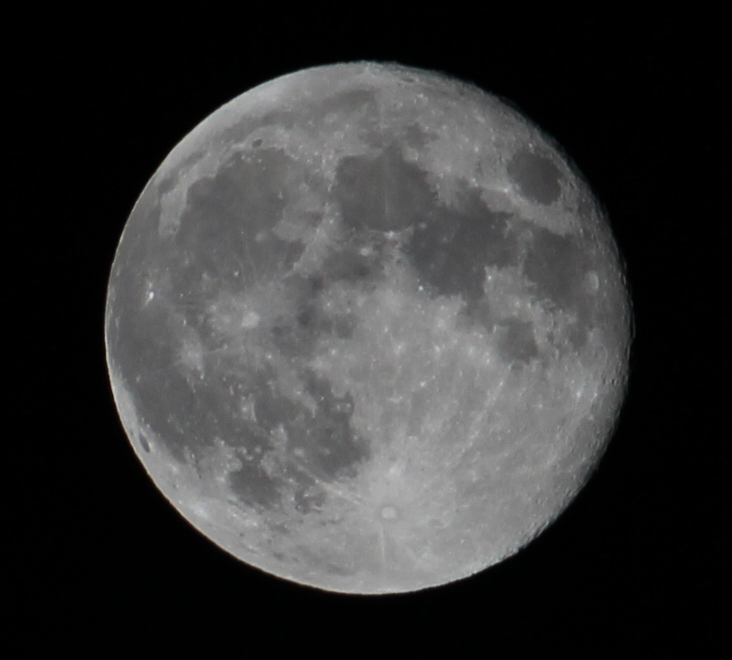crater: (317, 466, 438, 546), (162, 327, 221, 393), (219, 298, 279, 345), (576, 259, 604, 306), (214, 261, 257, 291), (242, 127, 270, 161), (136, 425, 161, 457), (271, 184, 293, 210), (381, 223, 404, 243), (353, 241, 377, 260), (408, 280, 431, 299), (471, 141, 486, 157)
